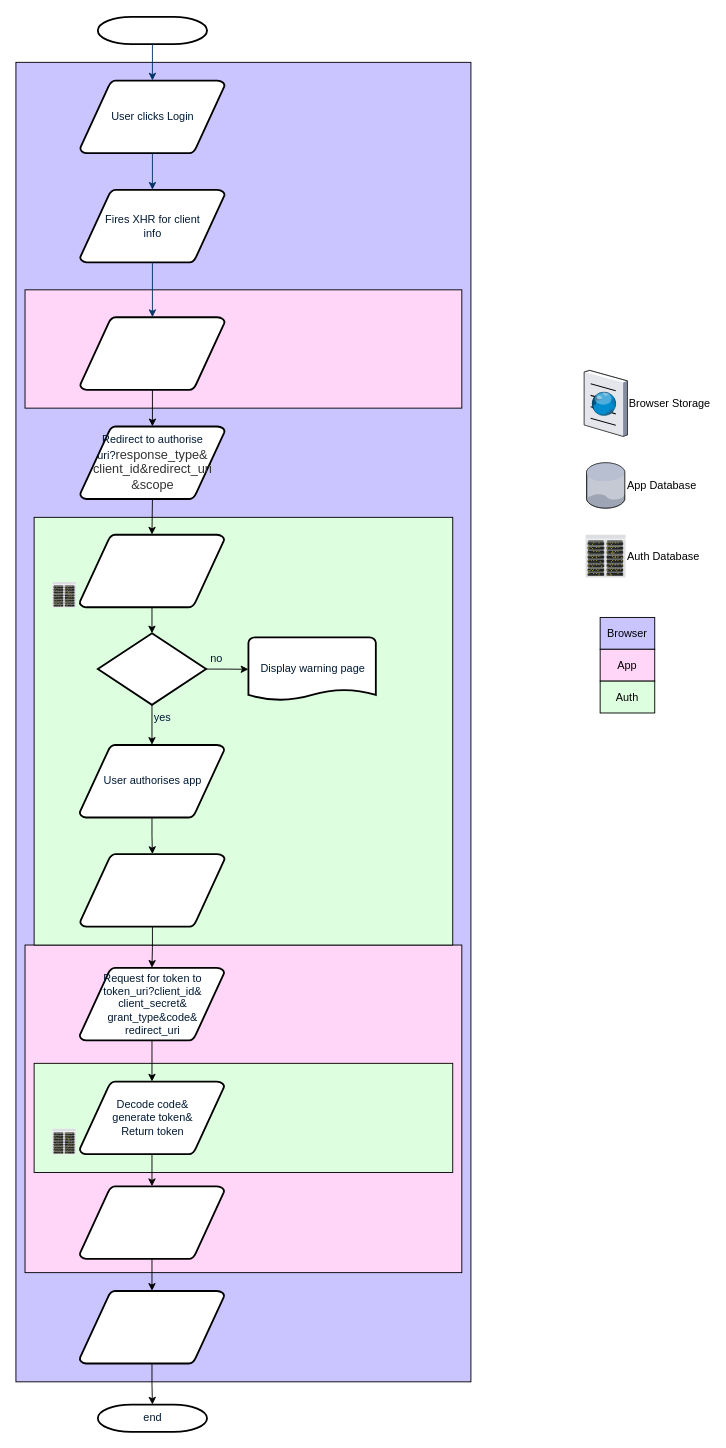
Some shapes in this 726 by 1448 pixel diagram are drawn without their labels. The shapes that lost their labels are listed below. From the top down, each one's box as (x1, y1, x2, y2) in pixels, then its label:
(96, 15, 207, 45): start
(79, 316, 225, 390): Returns client_id& callback_uri
(78, 533, 225, 608): Check if client valid
(96, 632, 207, 705): valid?
(79, 853, 225, 927): Generate code & Redirect to redirect_uri ?code
(78, 1185, 225, 1259): Generate sid& insert sid in DB with token&redirect to success page?sid
(78, 1289, 225, 1364): Write sid to cookies& redirect to main page
